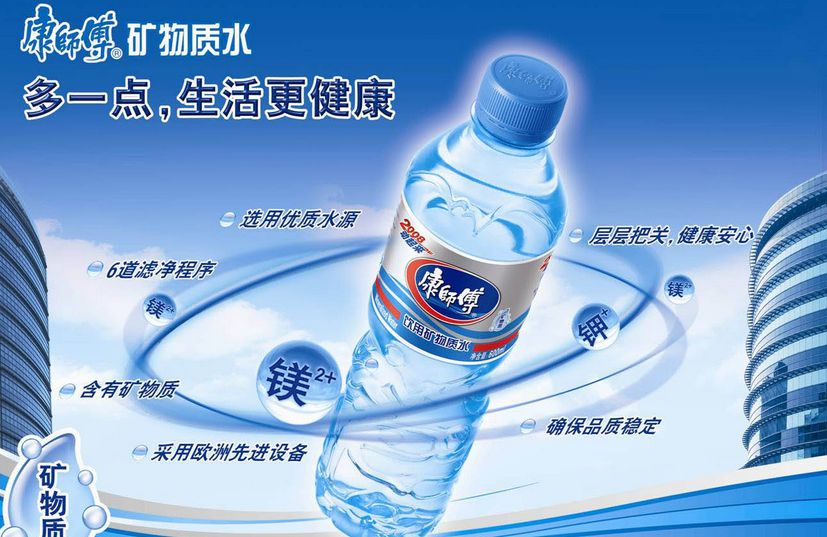amwater: (318, 41, 604, 537)
